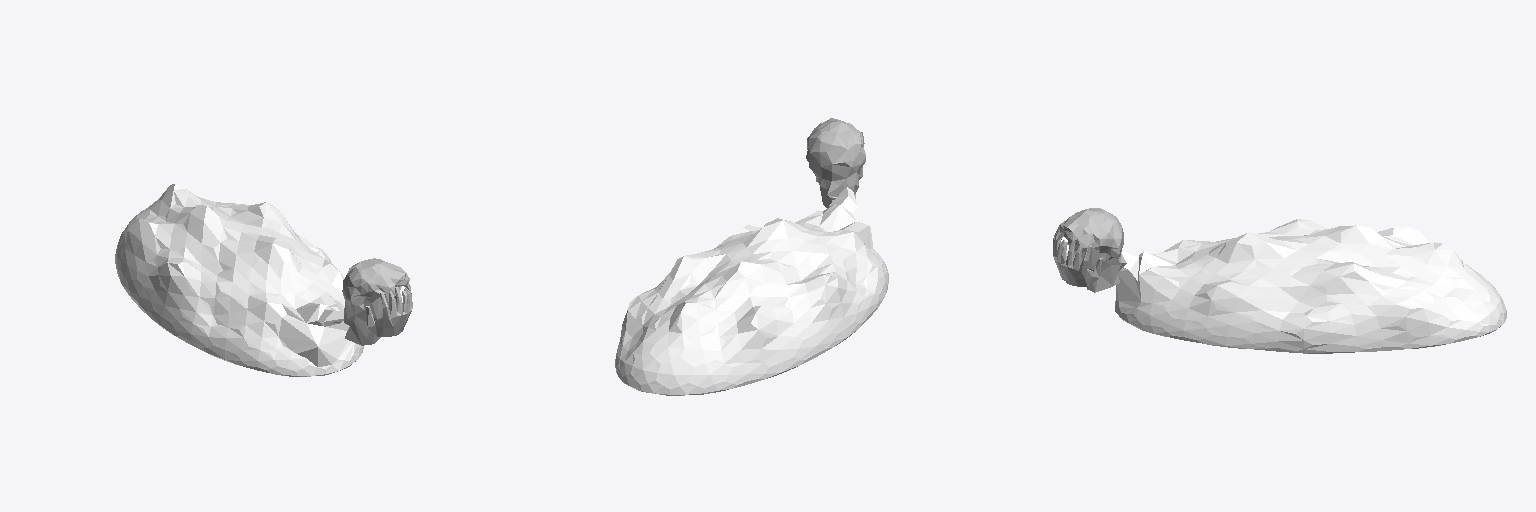
The model's file is birdHead.obj.
3 views of the same model, side by side, from view 1: azimuth 30°, elevation 25°; view 2: azimuth 150°, elevation 25°; view 3: azimuth 270°, elevation 25° (orthographic).
Parts seen in each view (by area): view 1: KipRuimte.1, Line03.1; view 2: KipRuimte.1; view 3: KipRuimte.1, Line03.1.
Boxes of the visible parts, x1=… form: KipRuimte.1: x1=115, y1=184, x2=409, y2=376; Line03.1: x1=366, y1=282, x2=412, y2=336; KipRuimte.1: x1=615, y1=118, x2=888, y2=395; KipRuimte.1: x1=1060, y1=208, x2=1506, y2=353; Line03.1: x1=1053, y1=223, x2=1102, y2=286.
Size of the model in its own units: 225 by 140 by 507.